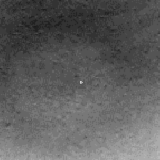Target: (78, 80, 84, 85)
